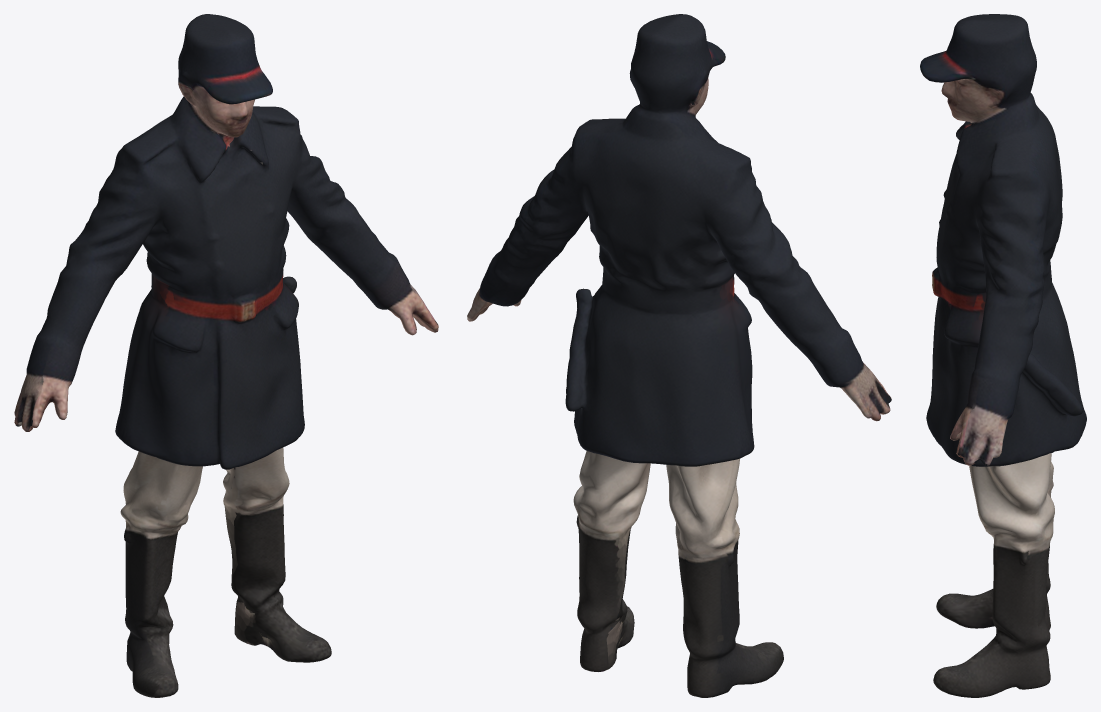
File: sargento_rig.glb
The picture shows the model from 3 angles, left to right: view 1: azimuth 30°, elevation 25°; view 2: azimuth 150°, elevation 25°; view 3: azimuth 270°, elevation 25°; orthographic projection.
Parts seen in each view (by area): view 1: temp_mesh.ply; view 2: temp_mesh.ply; view 3: temp_mesh.ply.
Part boxes in pixels (bbox=[...]): temp_mesh.ply: bbox=[14, 14, 438, 697]; temp_mesh.ply: bbox=[467, 14, 891, 697]; temp_mesh.ply: bbox=[920, 14, 1086, 697].
Size of the model in its own units: 1.2 by 1.78 by 0.4235.
Materials: 1 (1 with a texture image).
